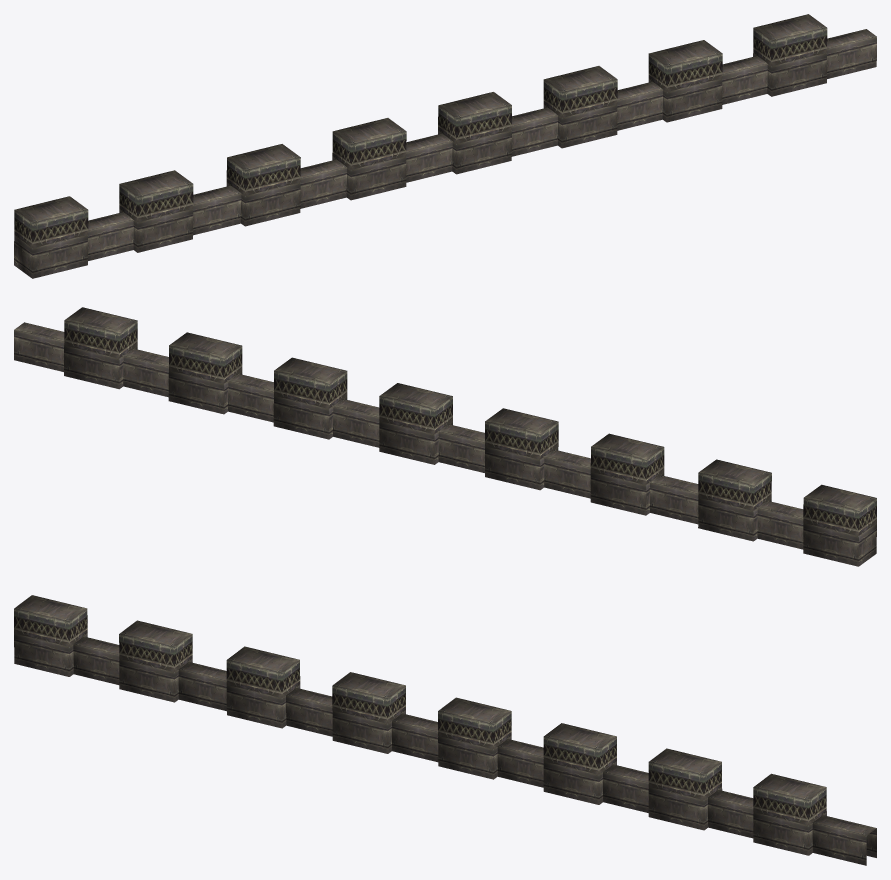
The model's file is S_Build_Muxue034.FBX.
The picture shows the model from 3 angles, top to bottom: view 1: azimuth 30°, elevation 25°; view 2: azimuth 150°, elevation 25°; view 3: azimuth 330°, elevation 25°; orthographic projection.
Parts seen in each view (by area): view 1: S_Build_Muxue034; view 2: S_Build_Muxue034; view 3: S_Build_Muxue034.
Boxes of the visible parts, box(x1,y1,x2,y2) form: S_Build_Muxue034: box(14, 14, 876, 278); S_Build_Muxue034: box(14, 307, 876, 566); S_Build_Muxue034: box(14, 595, 876, 865).
Size of the model in its own units: 2039 by 87.98 by 130.
